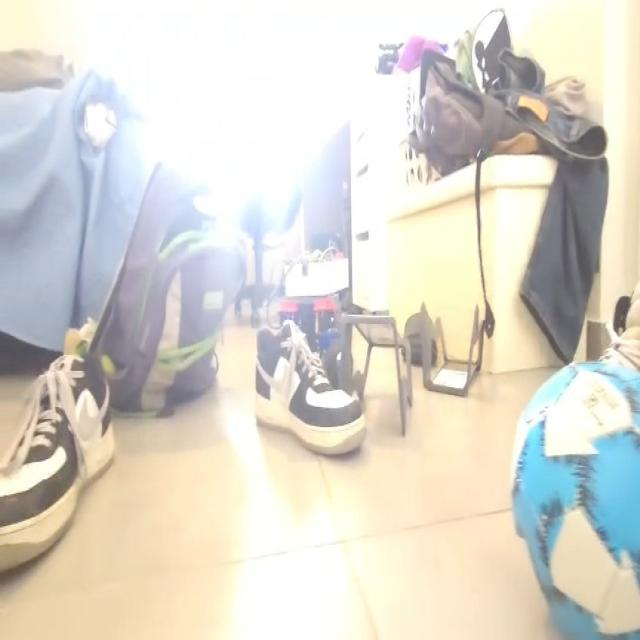Robot: (278, 253, 354, 387)
